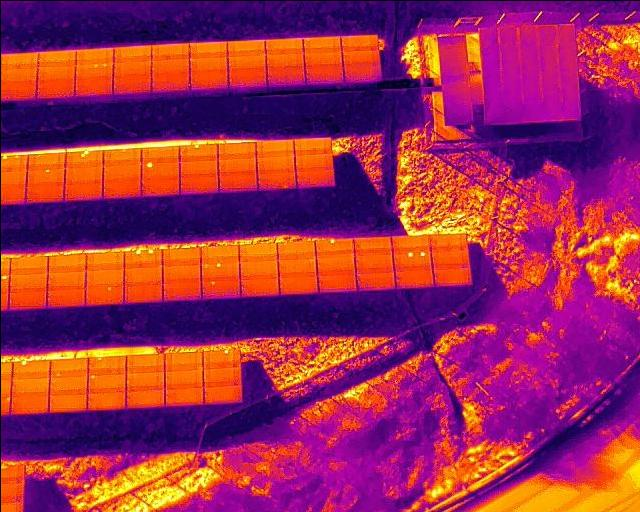Cell: (84, 284, 123, 304), (87, 374, 125, 393), (200, 280, 240, 298), (202, 349, 239, 368), (87, 356, 125, 373), (314, 238, 353, 254), (140, 162, 179, 178), (302, 36, 340, 52), (102, 149, 141, 164), (179, 145, 217, 160), (49, 360, 87, 375), (12, 362, 49, 377), (25, 168, 64, 182)
Cell-Multi: (199, 261, 239, 280), (123, 248, 161, 267), (392, 250, 432, 268), (66, 151, 103, 167), (75, 63, 113, 77), (0, 155, 26, 170)
No-Anomaly: (179, 172, 217, 193), (202, 367, 240, 387), (163, 387, 203, 406), (430, 249, 469, 268), (355, 269, 394, 288), (189, 69, 227, 88), (315, 271, 355, 289), (161, 247, 200, 265), (227, 68, 266, 86), (48, 376, 87, 394), (239, 260, 278, 278), (161, 265, 200, 283), (394, 267, 433, 285), (113, 74, 151, 92), (151, 73, 189, 91), (278, 274, 316, 292), (125, 371, 163, 389), (125, 390, 163, 408), (10, 394, 48, 412), (343, 63, 381, 81), (150, 42, 188, 60), (46, 271, 84, 289), (293, 154, 333, 171), (217, 173, 257, 190), (432, 268, 472, 285), (9, 273, 46, 291), (24, 183, 63, 200), (140, 178, 179, 195), (84, 252, 123, 269), (123, 285, 162, 302), (162, 283, 201, 300), (46, 289, 85, 306), (163, 370, 202, 387), (48, 394, 87, 411), (266, 67, 305, 84), (84, 267, 123, 284), (123, 267, 162, 284), (277, 241, 315, 258), (74, 77, 112, 94), (36, 80, 74, 97), (102, 164, 140, 181), (125, 354, 163, 371), (8, 291, 46, 308), (10, 377, 48, 394), (203, 387, 241, 404), (87, 393, 125, 410), (112, 45, 150, 62), (47, 254, 85, 271), (0, 80, 35, 98), (9, 257, 46, 274), (200, 245, 239, 261), (254, 141, 293, 157), (296, 170, 335, 186), (240, 278, 279, 294), (163, 353, 202, 369), (303, 51, 342, 67), (64, 183, 102, 199), (102, 181, 140, 197), (238, 244, 276, 260), (316, 254, 354, 270), (354, 253, 392, 269), (305, 66, 343, 82), (37, 49, 75, 65), (188, 41, 226, 57), (226, 39, 264, 55), (255, 157, 295, 172), (255, 172, 295, 187), (353, 236, 390, 252), (265, 38, 302, 54), (340, 34, 377, 50), (75, 47, 112, 63), (428, 234, 467, 249), (217, 158, 256, 173), (36, 65, 75, 80), (277, 259, 316, 274), (64, 167, 102, 182), (293, 138, 331, 153), (26, 153, 64, 168), (389, 236, 429, 250), (217, 144, 255, 158), (0, 53, 37, 67), (0, 67, 36, 81), (141, 148, 179, 161), (265, 54, 303, 67), (113, 62, 151, 75), (151, 60, 189, 73), (0, 183, 25, 202), (342, 50, 378, 63), (179, 160, 217, 172), (227, 56, 265, 68), (189, 57, 227, 69), (0, 170, 26, 183)
